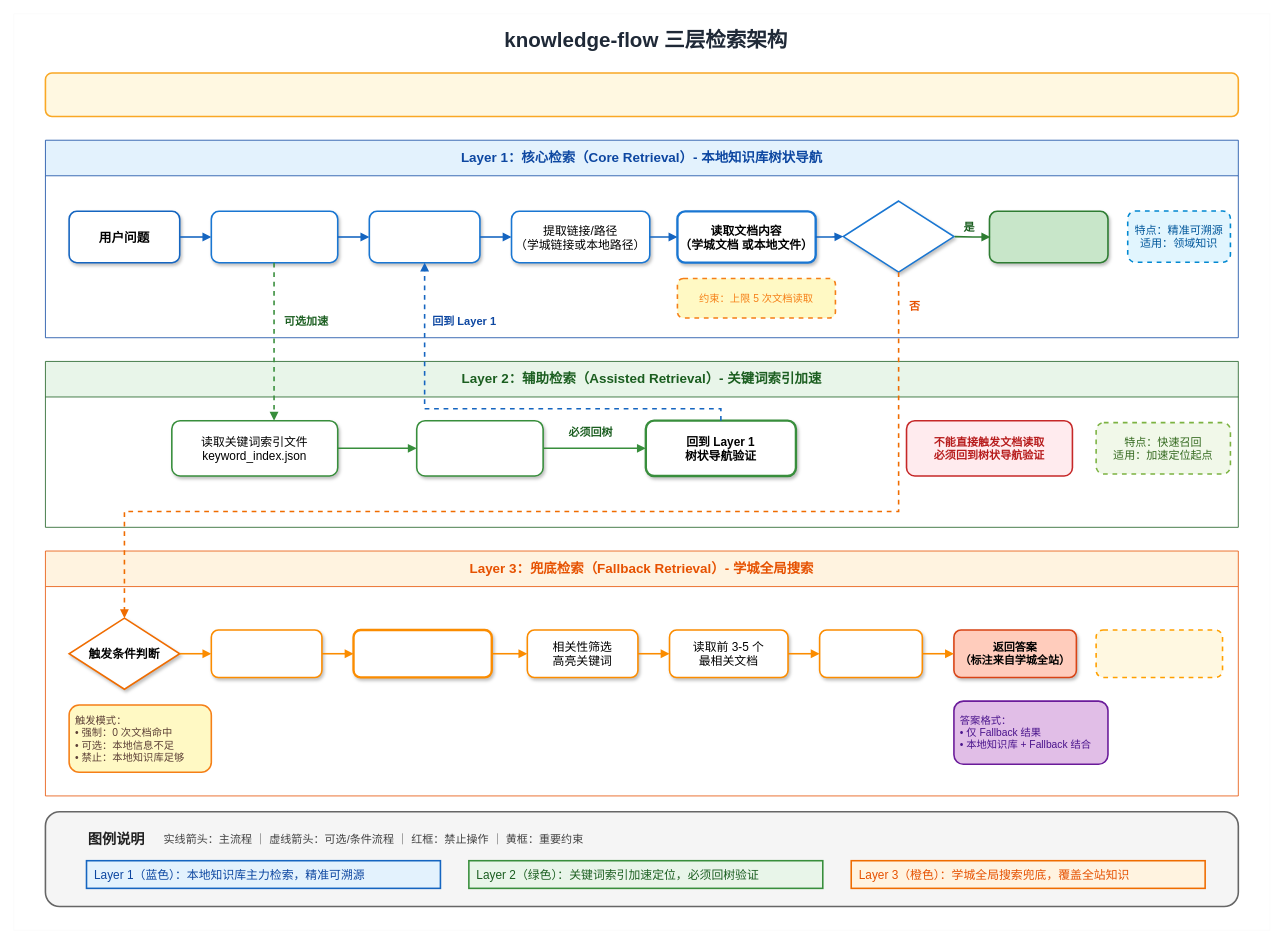
The diagram is 1284 pixels wide and 944 high, and some of its shapes have lost their labels. The shapes that lost their labels are listed below. From the top down, each one's centre as x and y in pixels, then its label:
pixel 641 94: 核心设计：Layer 1 主力（本地知识库）→ Layer 2 加速（关键词索引）→ Layer 3 兜底（学城全局搜索）
pixel 275 238: 读取根目录 data_structure.md
pixel 425 238: 逐层导航 子目录
pixel 899 237: 找到答案？
pixel 1049 238: 返回知识库答案
pixel 480 449: 关键词匹配 候选目录
pixel 267 654: 提取关键词 去除疑问词
pixel 423 654: 学城全站搜索
pixel 871 654: 组织答案 标注知识来源
pixel 1159 653: 特点：覆盖面广 适用：通用知识
